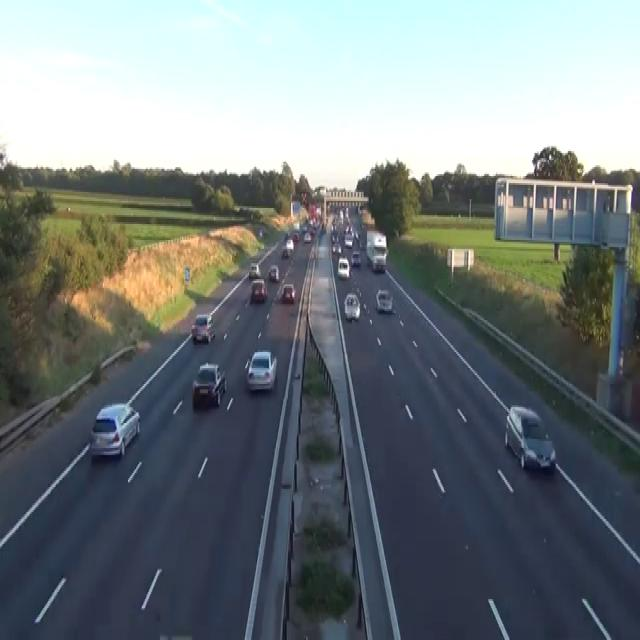Car: (504, 403, 556, 473), (89, 402, 140, 458), (191, 361, 227, 407), (244, 350, 277, 391), (191, 313, 214, 343), (375, 288, 393, 313), (344, 292, 360, 320), (251, 278, 267, 302), (366, 229, 386, 247), (281, 283, 296, 302), (337, 256, 350, 277), (281, 238, 293, 258), (372, 256, 385, 272), (248, 263, 260, 279), (286, 229, 300, 242), (158, 633, 194, 638), (268, 265, 279, 281), (351, 250, 361, 266), (331, 242, 342, 254), (375, 235, 386, 247), (330, 231, 339, 244), (280, 244, 288, 258), (344, 235, 353, 247), (286, 238, 294, 251), (303, 231, 311, 242), (292, 231, 300, 242), (359, 238, 366, 249), (300, 224, 308, 233), (355, 229, 359, 240), (259, 228, 262, 238)
Truck: (365, 229, 387, 272)
